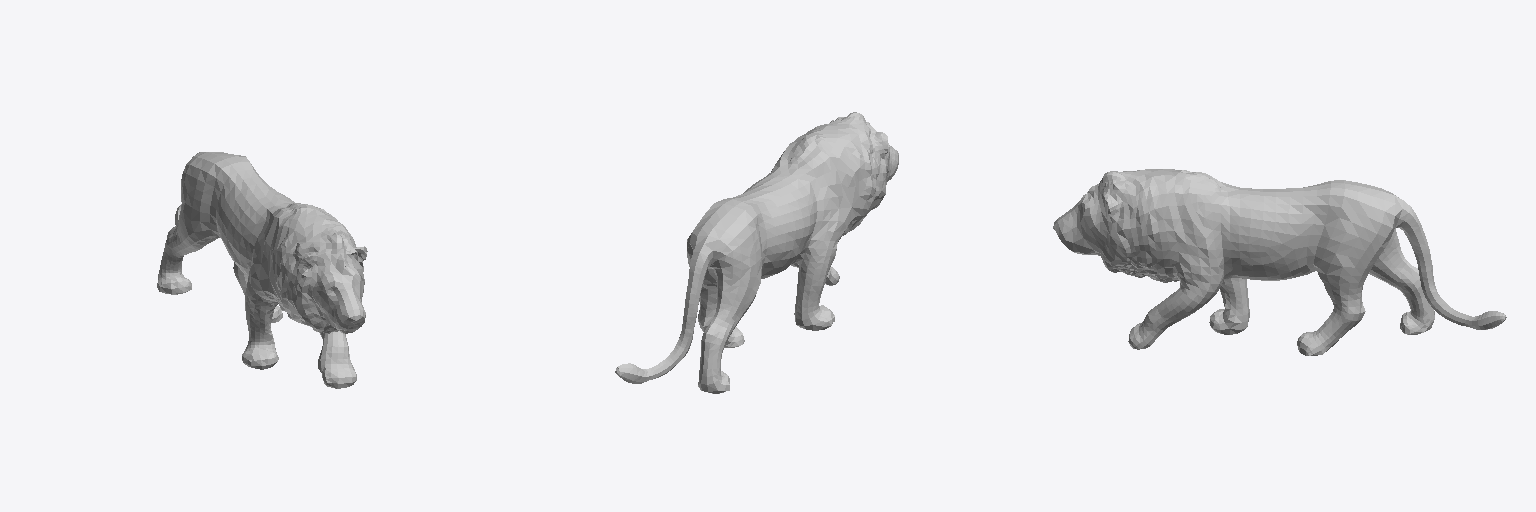
The model's file is Lion Low Poly.obj.
The picture shows the model from 3 angles: view 1: azimuth 30°, elevation 25°; view 2: azimuth 150°, elevation 25°; view 3: azimuth 270°, elevation 25°; orthographic projection.
Visible parts, largest first — view 1: Lion_Low_Poly1; view 2: Lion_Low_Poly1; view 3: Lion_Low_Poly1.
Part boxes in pixels (bbox=[...]): Lion_Low_Poly1: bbox=[157, 152, 367, 388]; Lion_Low_Poly1: bbox=[615, 112, 898, 393]; Lion_Low_Poly1: bbox=[1053, 169, 1506, 355].
Bounding box in the file's own units: 2.87 × 5.62 × 13.68.